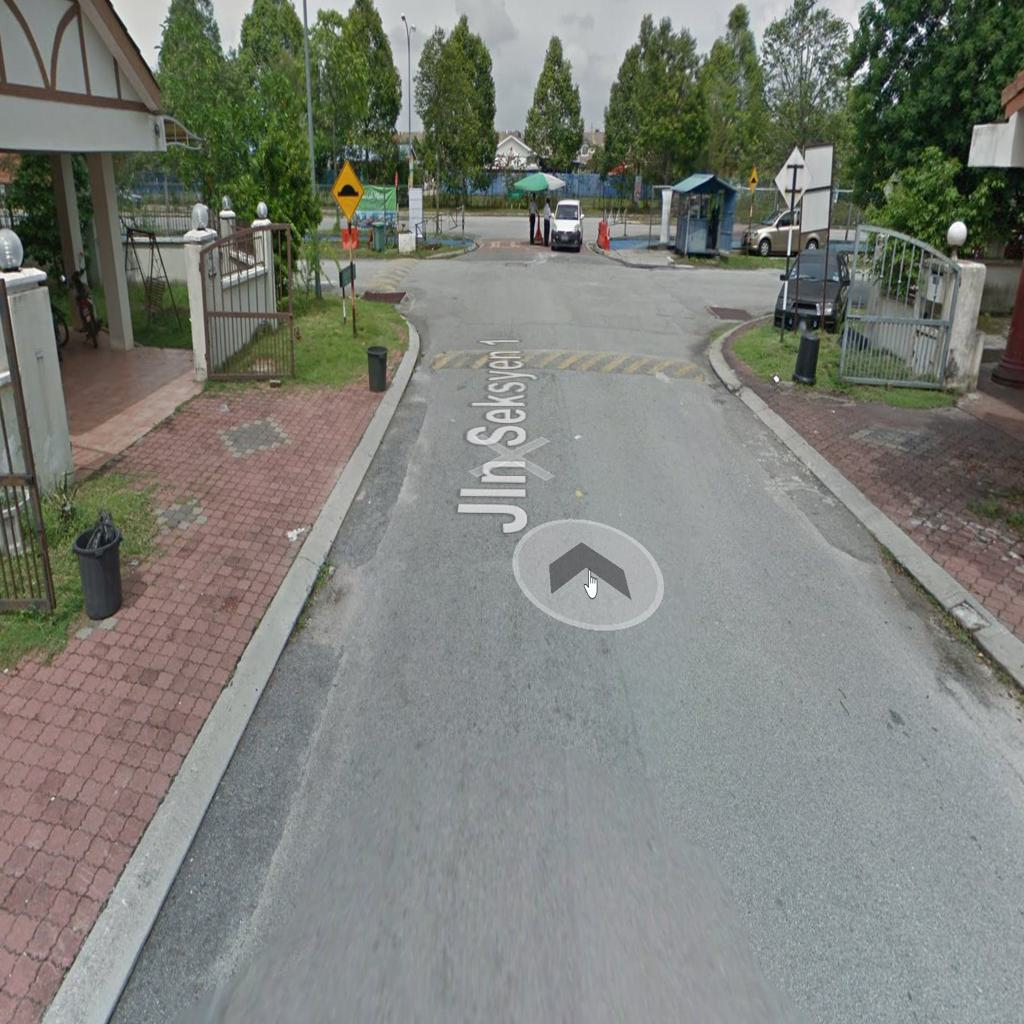Junction: (309, 211, 459, 356), (625, 240, 785, 355)
